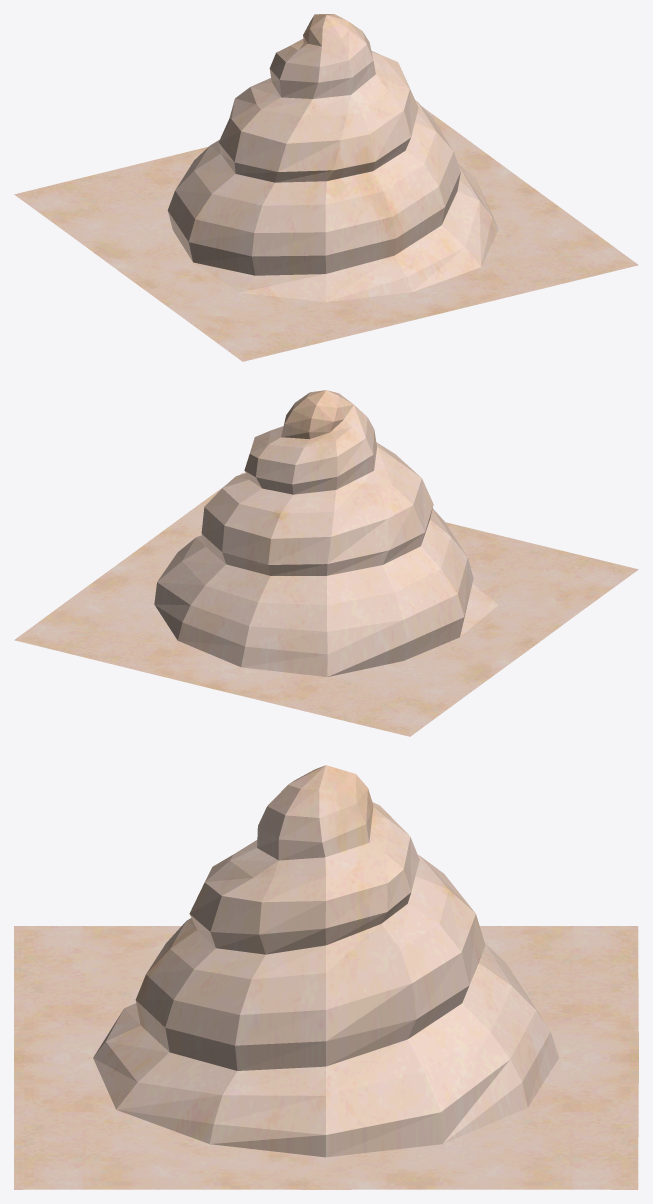
The model's file is sandbombbaseshit.dae.
The picture shows the model from 3 angles, top to bottom: view 1: azimuth 30°, elevation 25°; view 2: azimuth 150°, elevation 25°; view 3: azimuth 270°, elevation 25°; orthographic projection. The views are drawn at different scales.
Parts seen in each view (by area): view 1: m0; view 2: m0; view 3: m0.
Part boxes in pixels (x1,y1,x2,y2): m0: (14,14,638,361); m0: (14,390,638,736); m0: (14,765,638,1189).
Bounding box in the file's own units: 2377 × 1231 × 2381.
1 material, 1 textured.
